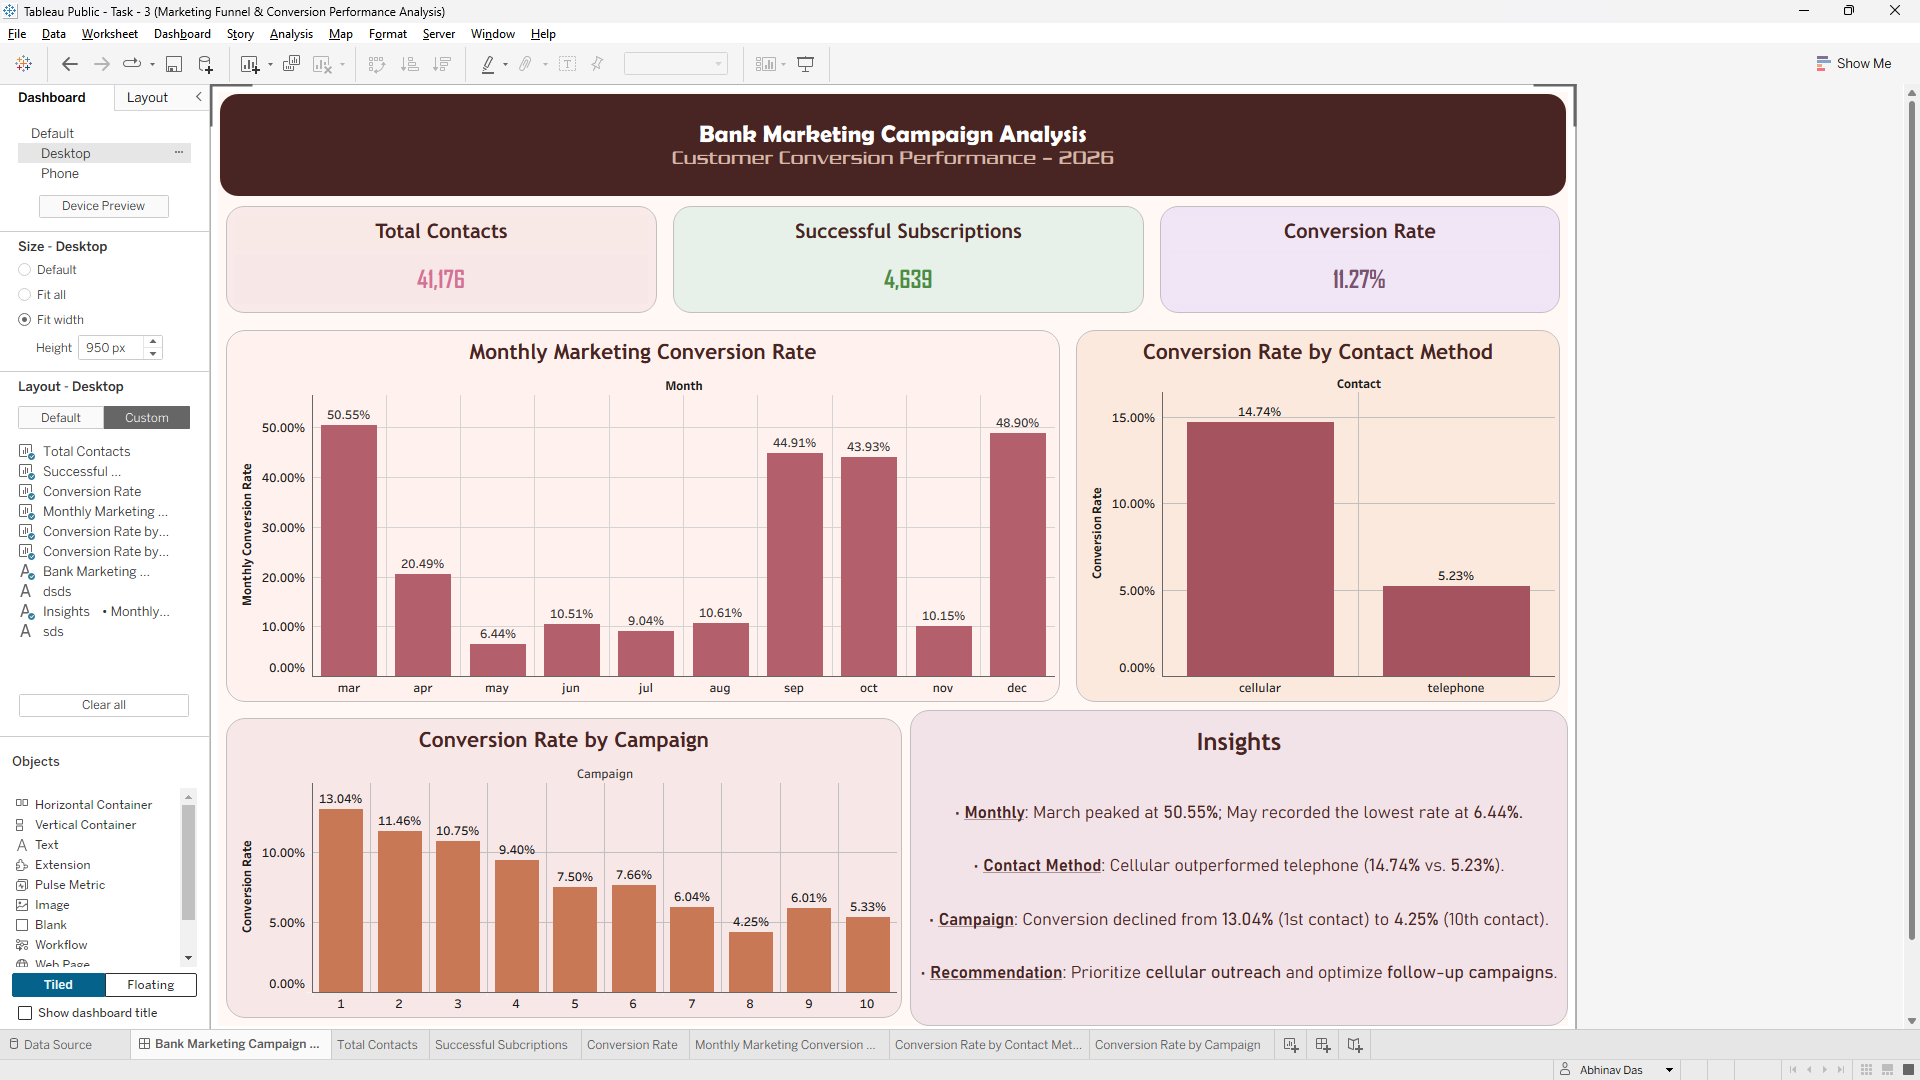

This screenshot's page, from the dashboard's own definition file:
{"tool":"tableau","page":{"name":"Bank Marketing Campaign Analysis","canvas":[650,860],"ordinal":0},"visuals":[{"type":"text","box":[8,8,634,83]},{"type":"worksheet","title":"Total Contacts","mark":"Automatic","box":[8,91,234,190.3]},{"type":"worksheet","title":"Successful Subcriptions","mark":"Automatic","box":[242,91,241.5,190.3]},{"type":"worksheet","title":"Conversion Rate","mark":"Automatic","box":[483.5,91,158.5,190.3]},{"type":"worksheet","title":"Monthly Marketing Conversion Rate","mark":"Bar","rows":["Calculation_1613867101134851"],"cols":["month"],"box":[8,281.3,317,380.5]},{"type":"worksheet","title":"Conversion Rate by Contact Method","mark":"Bar","rows":["Calculation_1613867057975298"],"cols":["contact"],"box":[325,281.3,317,380.5]},{"type":"worksheet","title":"Conversion Rate by Campaign","mark":"Bar","rows":["Calculation_1613867057975298"],"cols":["campaign"],"box":[8,661.8,317,190.2]},{"type":"text","box":[325,661.8,317,190.2]}]}

Visuals, with their boxes on the page's 650x860 design canvas (x1, y1, x2, y2). These are canvas units, not pixel positions in the 1920x1080 screenshot, which may show the page scaled, cropped or inside an application window:
text: box(8, 8, 642, 91)
"Total Contacts" worksheet: box(8, 91, 242, 281)
"Successful Subcriptions" worksheet: box(242, 91, 484, 281)
"Conversion Rate" worksheet: box(484, 91, 642, 281)
"Monthly Marketing Conversion Rate" worksheet (Bar marks): box(8, 281, 325, 662)
"Conversion Rate by Contact Method" worksheet (Bar marks): box(325, 281, 642, 662)
"Conversion Rate by Campaign" worksheet (Bar marks): box(8, 662, 325, 852)
text: box(325, 662, 642, 852)
